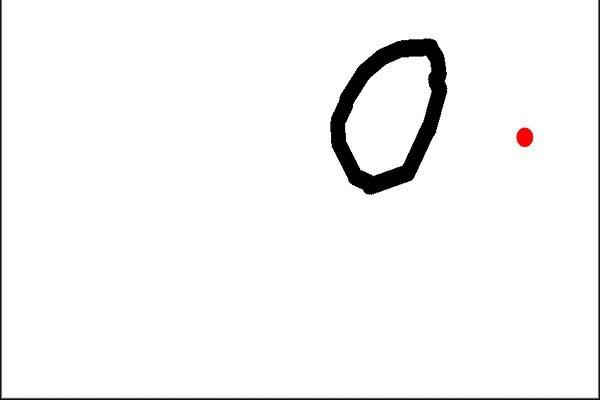O: (314, 25, 453, 199)
